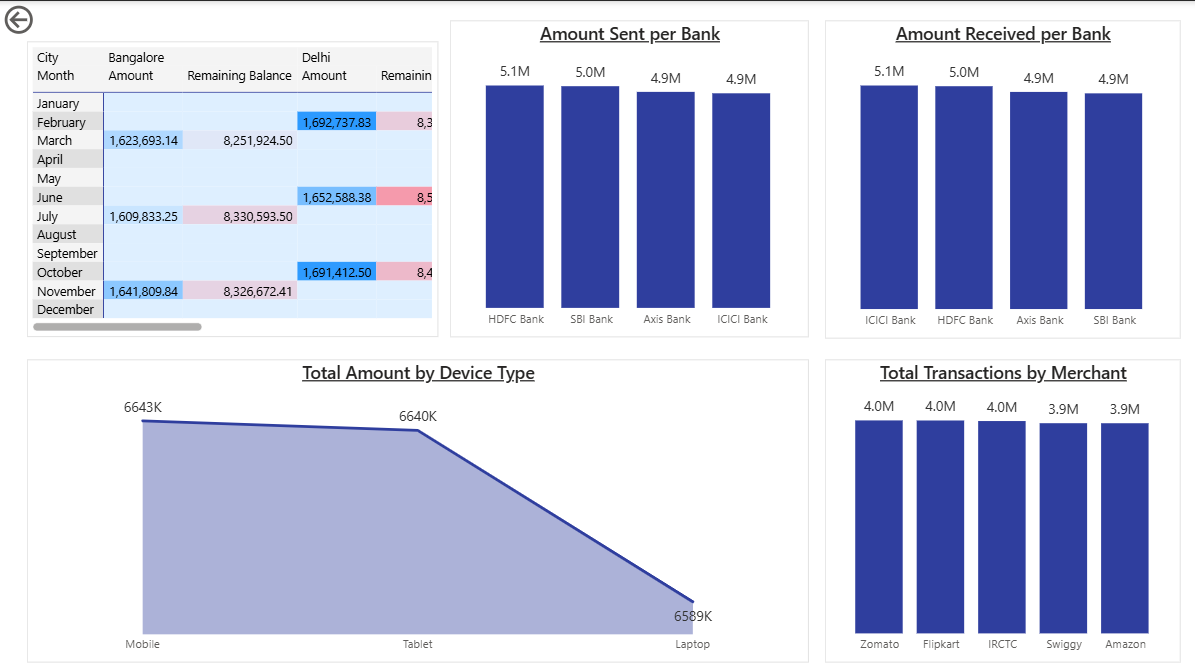

Layout of this report page (visuals, bound fields, positions):
{"tool":"powerbi","page":{"name":"Bank & Merchant\t","canvas":[1280,720],"ordinal":2},"visuals":[{"type":"columnChart","title":"Amount Received per Bank","fields":{"Category":["UPI.BankNameReceived"],"Y":["Sum(UPI.Amount)"]},"box":[878.3,20,378.3,338.3],"z":0},{"type":"columnChart","title":"Amount Sent per Bank","fields":{"Y":["Sum(UPI.Amount)"],"Category":["UPI.BankNameSent"]},"box":[479.3,20.8,381.8,337.1],"z":1000},{"type":"areaChart","title":"Total Amount by Device Type","fields":{"Category":["UPI.DeviceType"],"Y":["Sum(UPI.Amount)"]},"box":[28.8,381.8,832.4,322.7],"z":2000},{"type":"columnChart","title":"Total Transactions by Merchant","fields":{"Y":["Sum(UPI.Amount)"],"Category":["UPI.MerchantName"]},"box":[878.7,381.8,378.6,322.7],"z":3000},{"type":"pivotTable","fields":{"Rows":["UPI.TransactionDate.Variation.Date Hierarchy.Month"],"Columns":["UPI.City"],"Values":["Sum(UPI.Amount)","Sum(UPI.RemainingBalance)"]},"box":[28.8,43.1,437.8,314.7],"z":4000},{"type":"actionButton","box":[0,0,143.8,39.9],"z":4001}]}

Visuals, with their boxes on the page's 1280x720 design canvas (x1, y1, x2, y2). These are canvas units, not pixel positions in the 1195x672 screenshot, which may show the page scaled, cropped or inside an application window:
"Amount Received per Bank" columnChart: bbox=(878, 20, 1257, 358)
"Amount Sent per Bank" columnChart: bbox=(479, 21, 861, 358)
"Total Amount by Device Type" areaChart: bbox=(29, 382, 861, 704)
"Total Transactions by Merchant" columnChart: bbox=(879, 382, 1257, 704)
pivotTable - UPI.TransactionDate.Variation.Date Hierarchy.Month x UPI.City: bbox=(29, 43, 467, 358)
actionButton: bbox=(0, 0, 144, 40)
